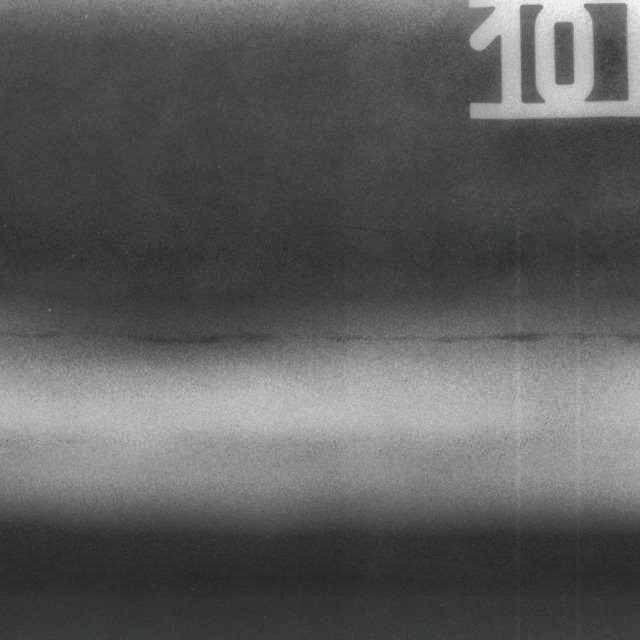LoP-LoF: (9, 304, 640, 363)
